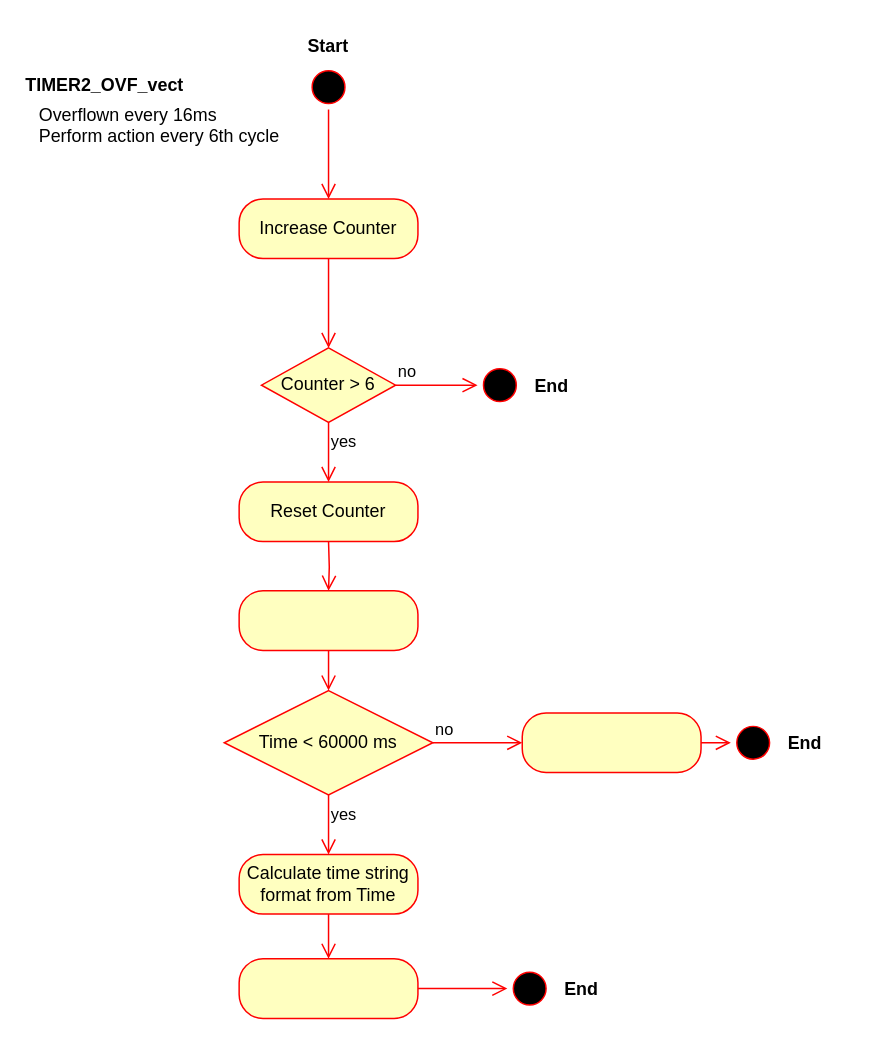
The diagram is 891 pixels wide and 1044 high, and some of its shapes have lost their labels. The shapes that lost their labels are listed below. From the top down, each one's box as (x1, y1, x2, y2) in pixels, then its label:
(238, 589, 418, 650): Time + 100 ms
(521, 711, 701, 773): Reset Time
(238, 957, 418, 1018): Display string on LCD
